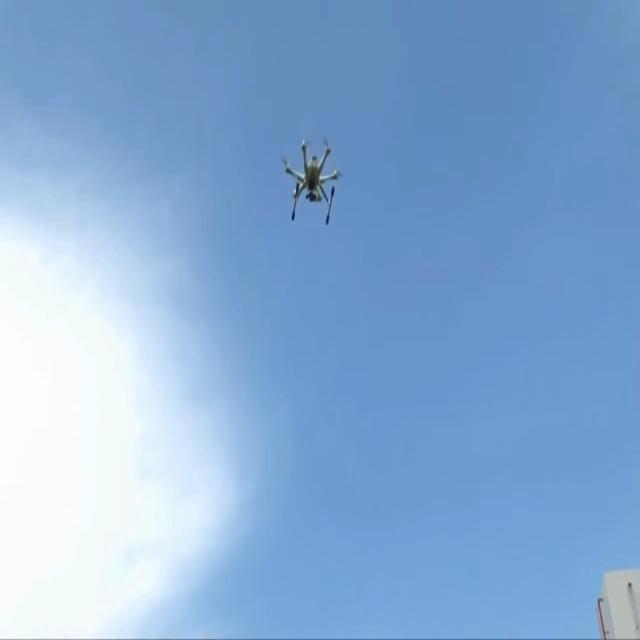drone: (281, 136, 343, 225)
